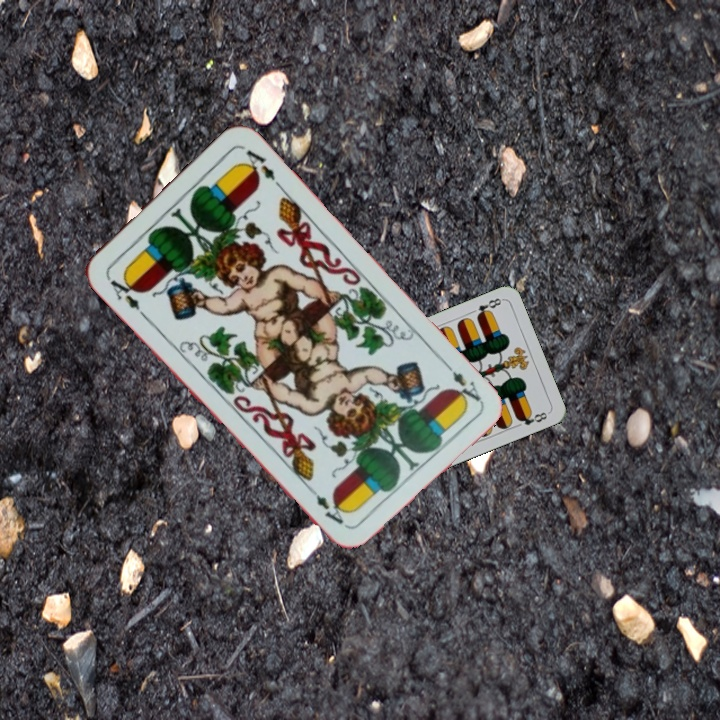E8: (473, 294, 505, 321)
EA: (438, 357, 484, 408), (102, 270, 143, 313)
